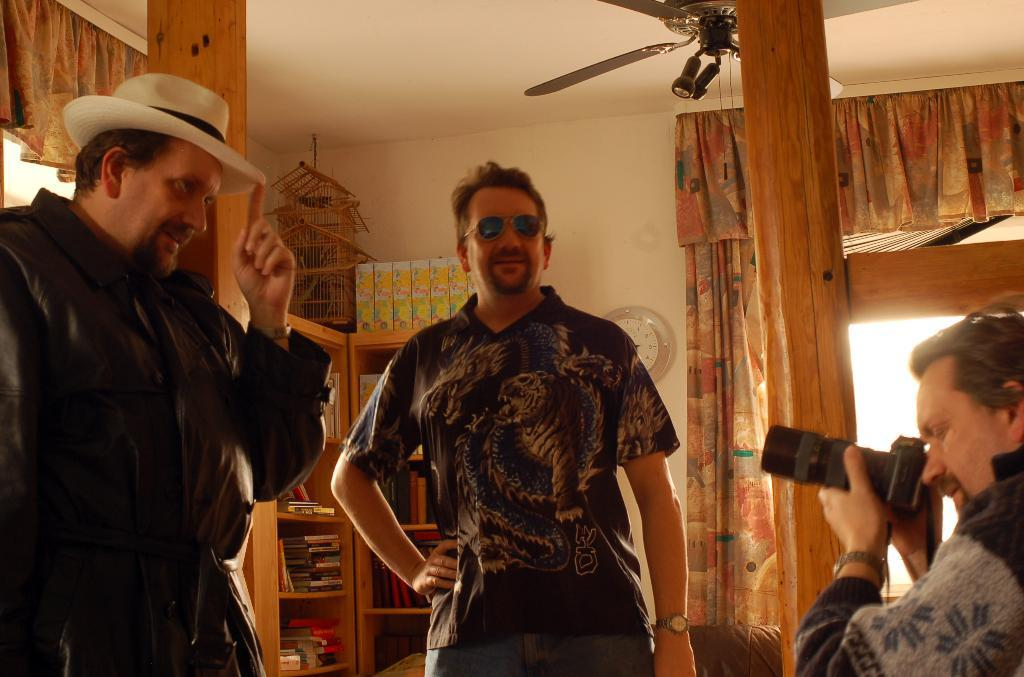Hat: (60, 69, 266, 196)
